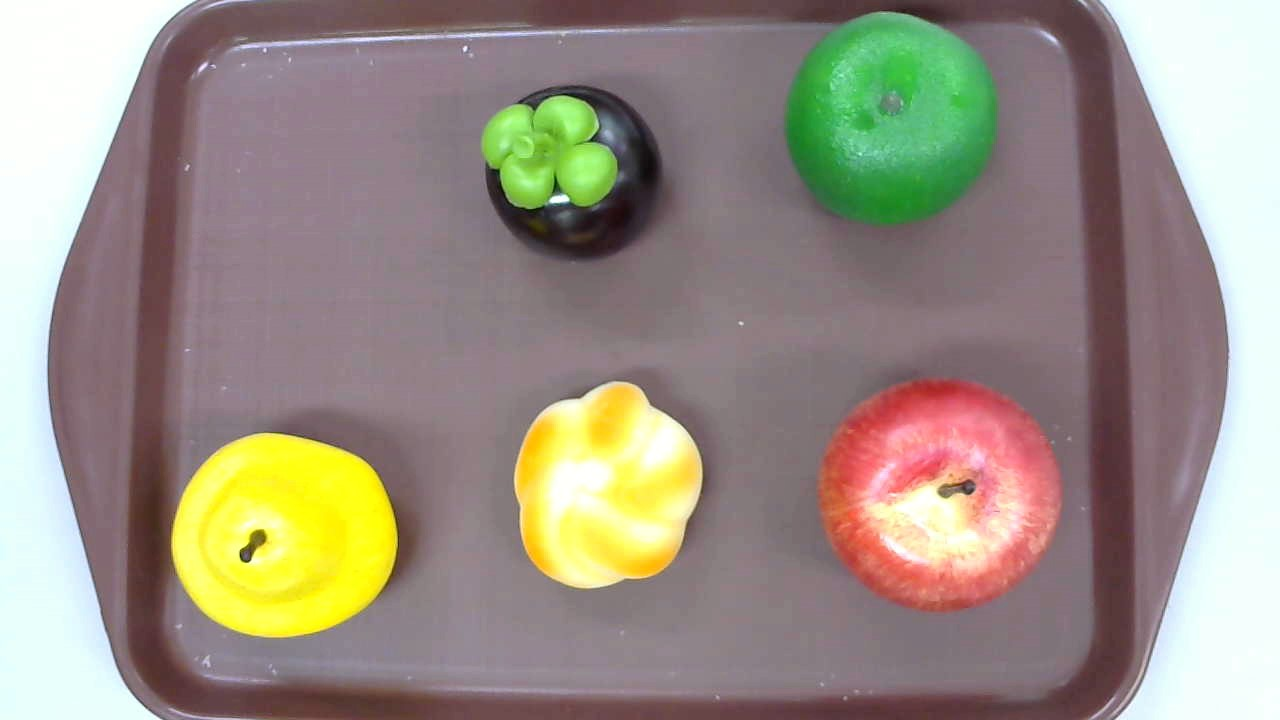green orange: (785, 10, 997, 225)
mangosteen: (482, 84, 665, 262)
red apple: (816, 376, 1063, 613)
twist bread: (513, 381, 703, 590)
yellow pear: (171, 433, 397, 638)
